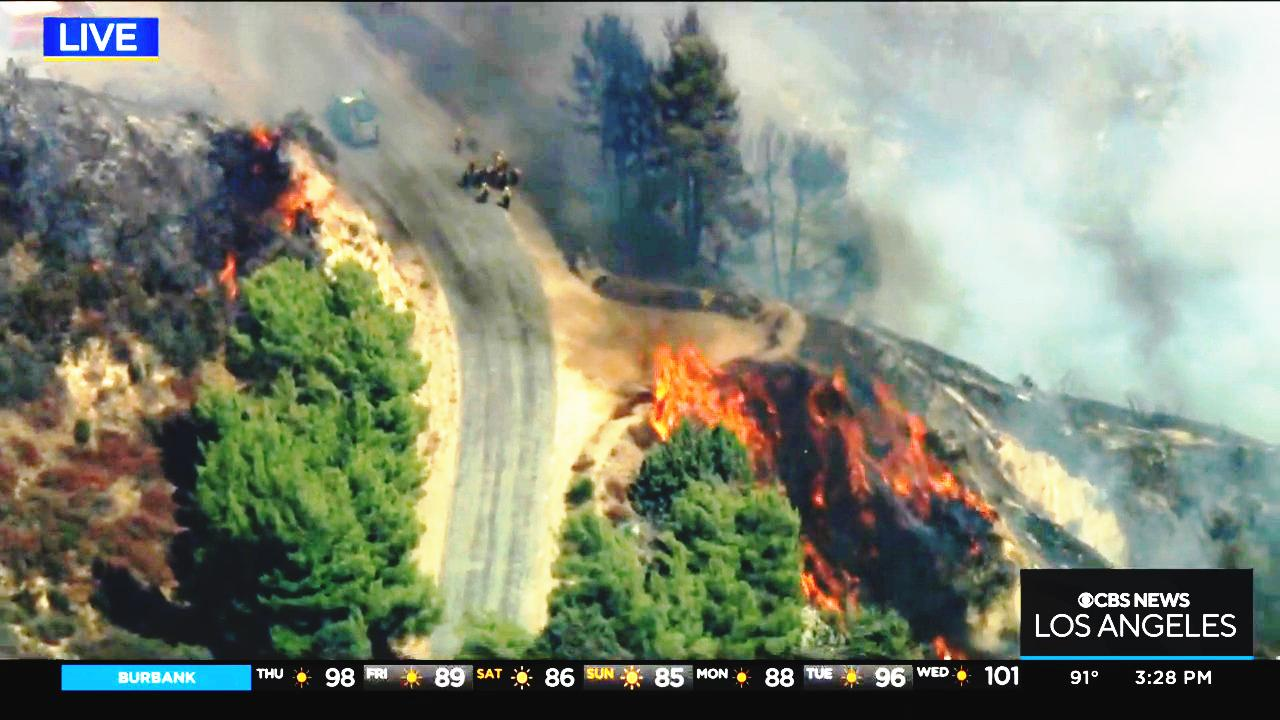fire: (870, 415, 955, 500), (645, 349, 733, 410)
smoke: (1114, 97, 1274, 307), (925, 202, 1098, 364)
